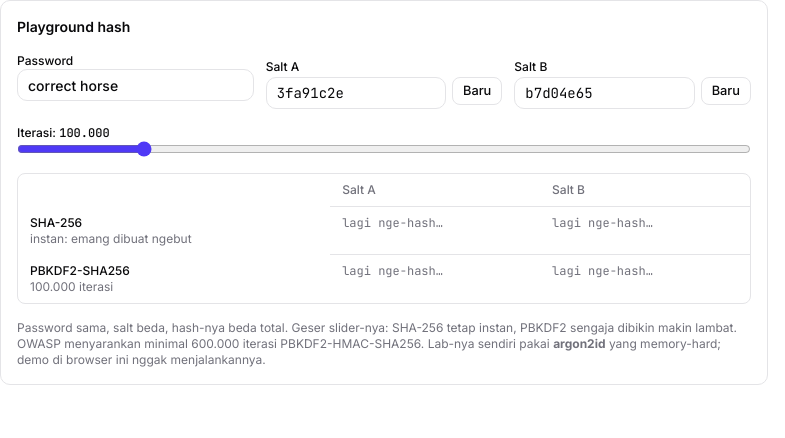
it: HashPlayground › shows 'hashing…' while a slow derivation runs, and says the lab uses argon2id
Later steps or results of the test are not shown.
Expected: the text "argon2id" is shown, [553,336,606,350]
Step 1. Replace the text in the field labelled "Password" with "x" → [135, 85], box [17,69,254,101]
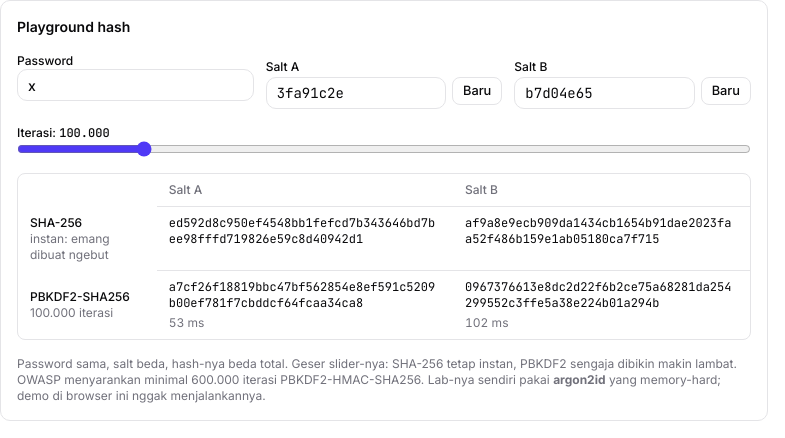
Expected: the text "lagi nge-hash…" is gone
